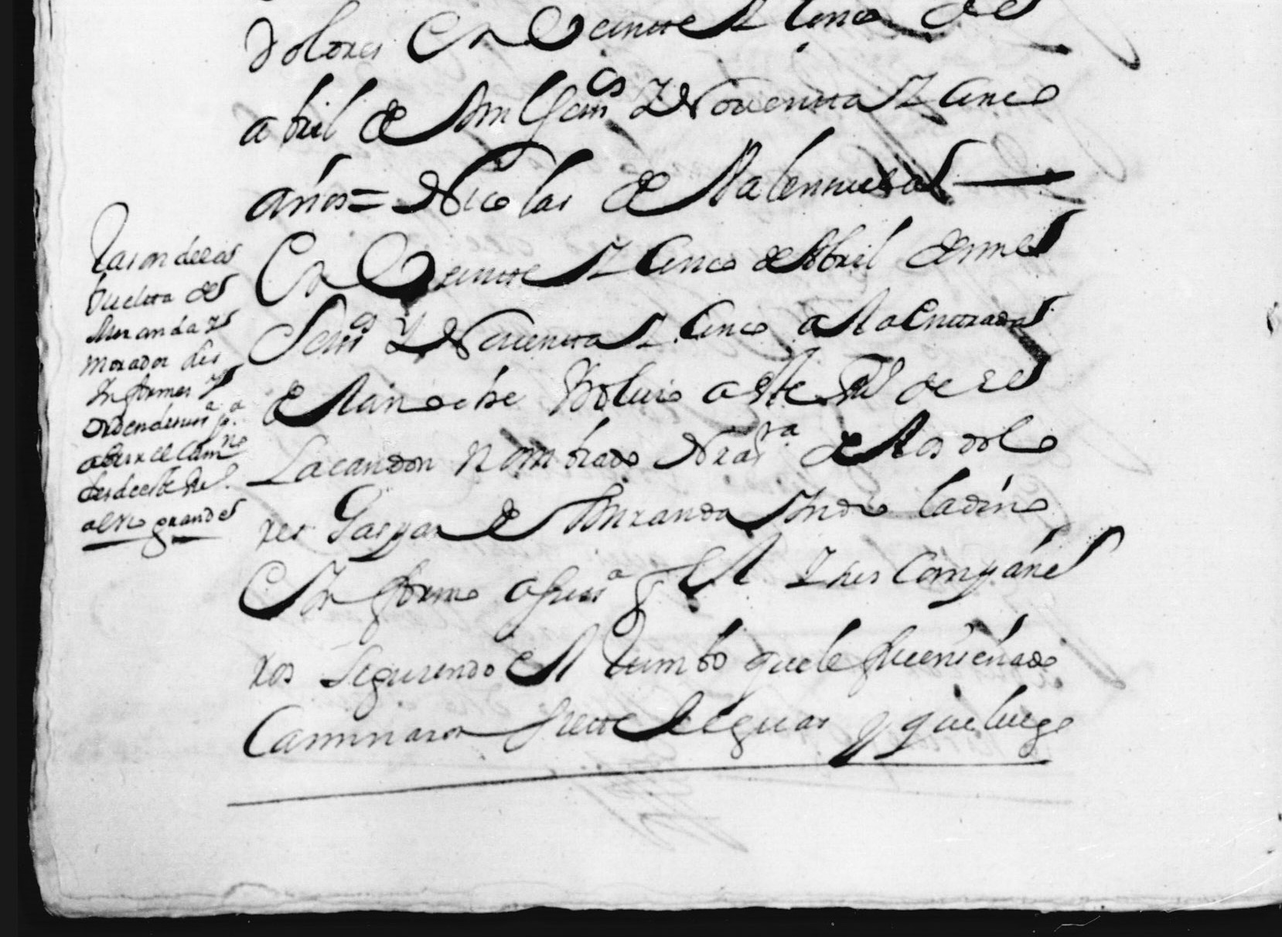lacandon: (245, 434, 435, 486)
